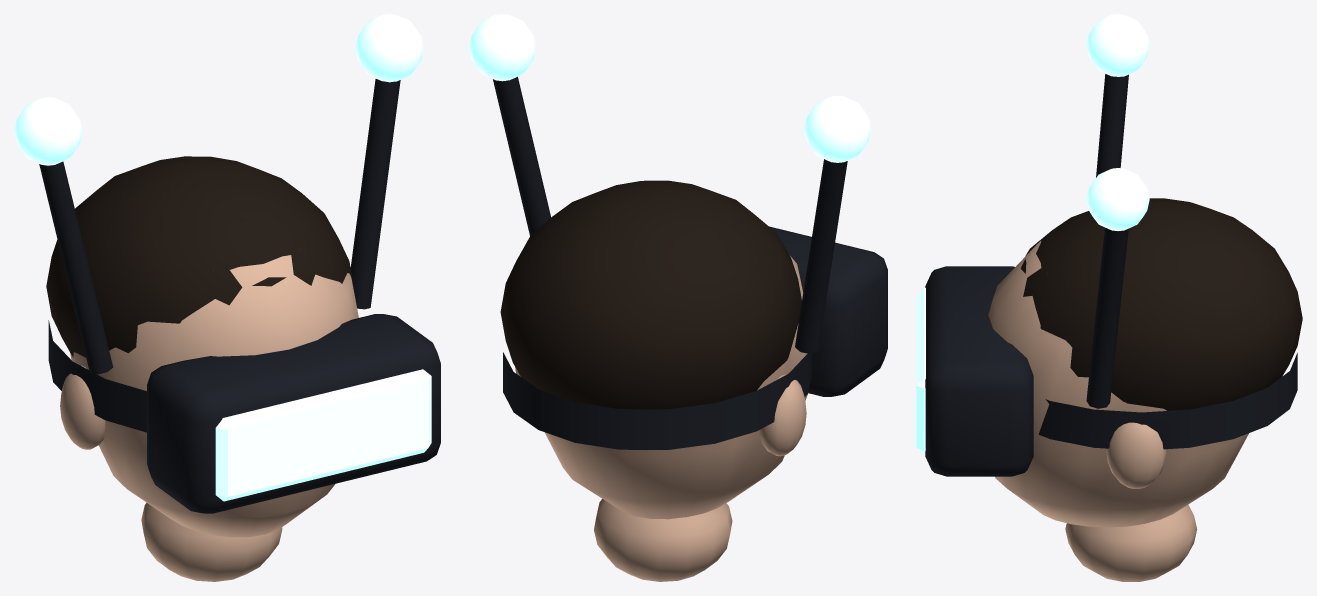
File: coder_head_7.glb
3 views of the same model, side by side, from view 1: azimuth 30°, elevation 25°; view 2: azimuth 150°, elevation 25°; view 3: azimuth 270°, elevation 25° (orthographic). The views are drawn at different scales.
Visible parts, largest first — view 1: CoderPart; view 2: CoderPart; view 3: CoderPart.
Boxes of the visible parts, x1,y1,x2,y2 form: CoderPart: (14,14,440,581); CoderPart: (469,14,887,581); CoderPart: (916,14,1302,581).
Size of the model in its own units: 0.324 by 0.402 by 0.293.
